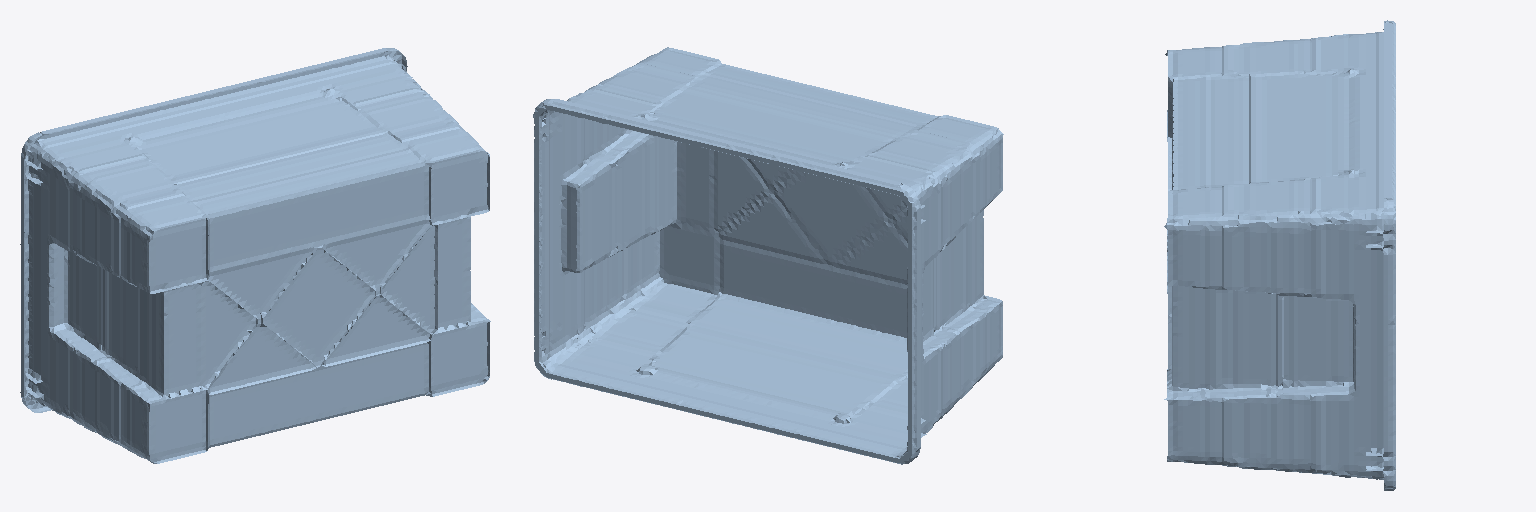
URDF robot description (plasticbox):
<?xml version="1.0" ?>
<robot name="plasticbox">
  <dynamics damping="0.5" friction="0.9"/>
  <link name="plasticbox_link">
    <inertial>
      <mass value="0.1"/>
      <origin xyz="0 0 0"/>
      <inertia ixx="0.002" ixy="0" ixz="0" iyy="0.002" iyz="0" izz="0.002"/>
    </inertial>
    <contact>
      <lateral_friction value="0.9"/>
      <rolling_friction value="0.5"/>
      <stiffness value="30000"/>
      <damping value="1000"/>
    </contact>
    <visual>
      <origin rpy="0 0 0" xyz="0 0 0"/>
      <geometry>
        <mesh filename="plasticbox.obj" scale="1.0 1.0 1.0"/>
      </geometry>
       <material name="mat">
        <color rgba="0.7 0.8 0.9 0.7"/>
      </material>
    </visual>
    <collision name="plasticbox">
      <origin rpy="0 0 0" xyz="0 0 0"/>
      <geometry>
        <mesh filename="plasticbox.obj" scale="1.0 1.0 1.0"/>
      </geometry>
    </collision>
  </link>
</robot>

--- Facts derived from the render (not from the file) ---
The picture shows the robot from 3 angles, left to right: view 1: azimuth 30°, elevation 25°; view 2: azimuth 150°, elevation 25°; view 3: azimuth 270°, elevation 25°; orthographic projection.
Robot: plasticbox — 1 links, 0 joints (none); root link plasticbox_link; default pose: all joints at 0.
Links seen in each view (by area): view 1: plasticbox_link; view 2: plasticbox_link; view 3: plasticbox_link.
Link boxes in pixels (x1,y1,x2,y2): plasticbox_link: (20, 48, 490, 463); plasticbox_link: (533, 47, 1003, 464); plasticbox_link: (1164, 20, 1395, 490).
Size in the robot's own frame: 0.5557 by 0.2784 by 0.3857 metres.
Meshes: 1 distinct files referenced, 1 mesh visuals loaded (1 OBJ).
